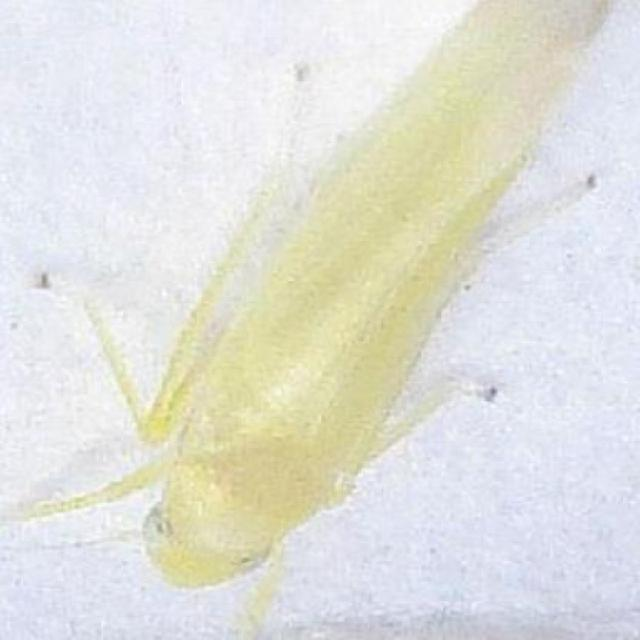green-leafhopper: (140, 0, 628, 598)
